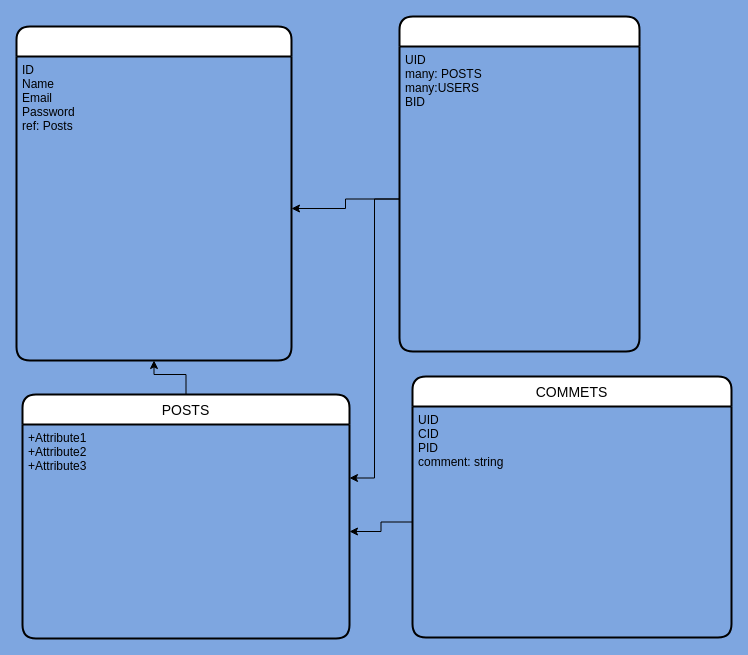
The diagram is 748 pixels wide and 655 high, and some of its shapes have lost their labels. The shapes that lost their labels are listed below. From the top down, each one's box as (x1, y1, x2, y2) in pixels, then its label:
(15, 25, 292, 361): USER
(398, 15, 640, 352): BOARD
